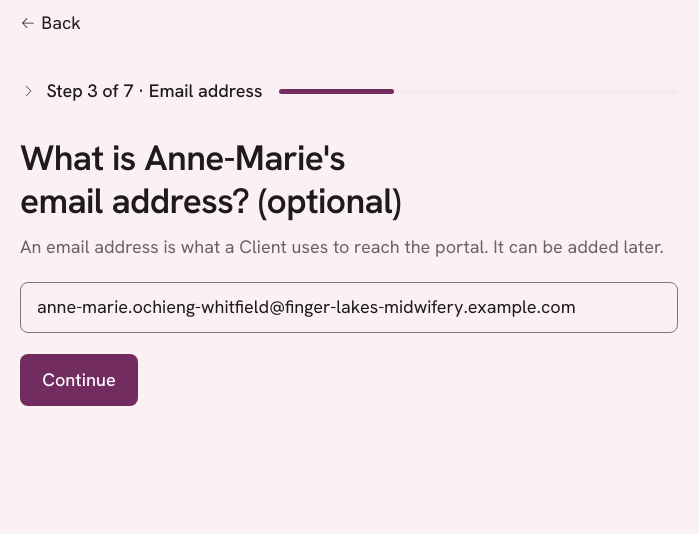
Test: a question with a value on file › says a new address cancels a waiting portal invite
Replace the text in the field with "anne@example.com". click: (349, 307)
box: x1=20 y1=282 x2=678 y2=333
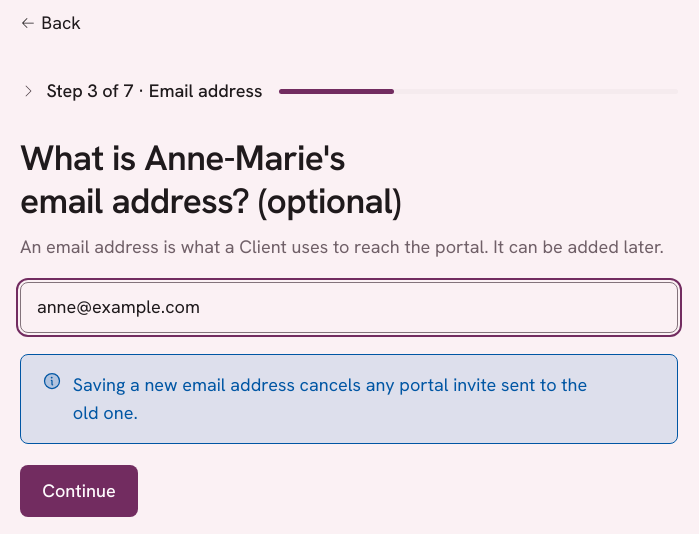
Now the text "Saving a new email address cancels any portal invite sent to the old one." is shown, box x1=20 y1=354 x2=678 y2=444
